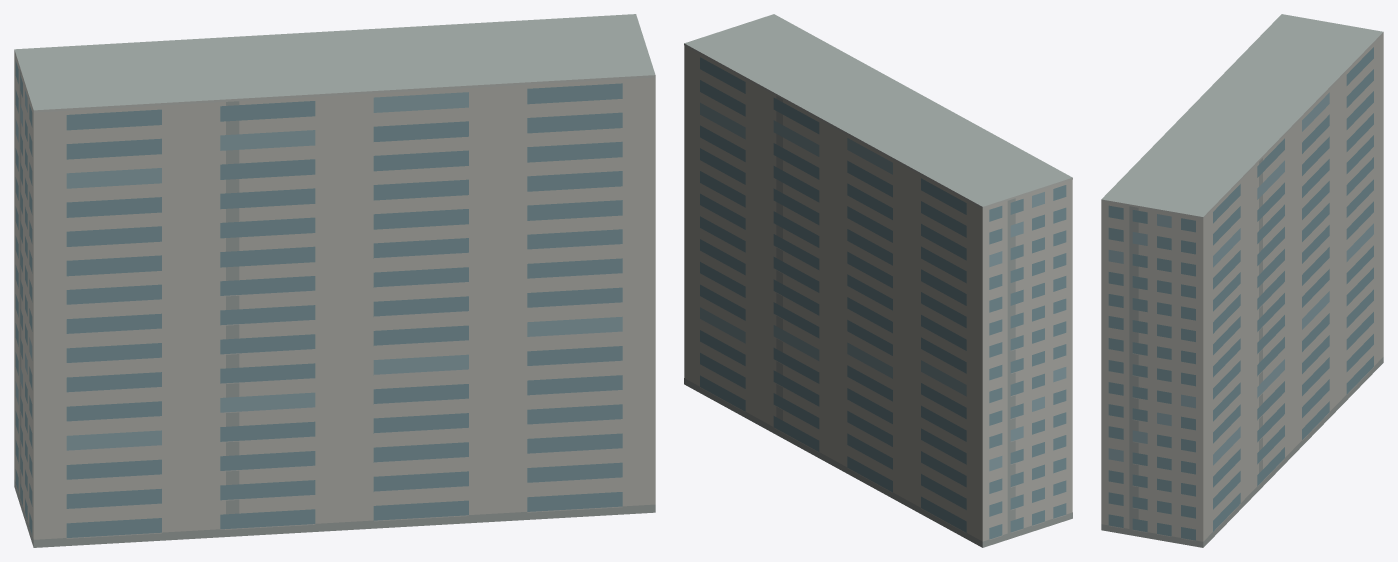
The model's file is residential-aa65efd1-091a-4c71-b85f-604edb24a006.glb.
The picture shows the model from 3 angles, left to right: view 1: azimuth 30°, elevation 25°; view 2: azimuth 150°, elevation 25°; view 3: azimuth 270°, elevation 25°; orthographic projection. The views are drawn at different scales.
Parts seen in each view (by area): view 1: residential-aa65efd1-091a-4c71-b85f-604edb24a006.tmp; view 2: residential-aa65efd1-091a-4c71-b85f-604edb24a006.tmp; view 3: residential-aa65efd1-091a-4c71-b85f-604edb24a006.tmp.
Boxes of the visible parts, x1=… form: residential-aa65efd1-091a-4c71-b85f-604edb24a006.tmp: x1=14, y1=14, x2=655, y2=547; residential-aa65efd1-091a-4c71-b85f-604edb24a006.tmp: x1=684, y1=14, x2=1072, y2=547; residential-aa65efd1-091a-4c71-b85f-604edb24a006.tmp: x1=1101, y1=14, x2=1383, y2=547.
Size of the model in its own units: 56.63 by 43 by 33.27.
